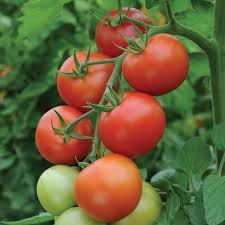stems: (66, 106, 96, 132), (76, 57, 115, 73), (114, 15, 154, 27), (107, 87, 117, 106)
tomato: (73, 153, 142, 223), (98, 91, 166, 161), (121, 33, 190, 96), (56, 50, 122, 112), (34, 104, 95, 165), (95, 7, 156, 58), (109, 180, 162, 225), (36, 164, 81, 216), (53, 207, 107, 225)
